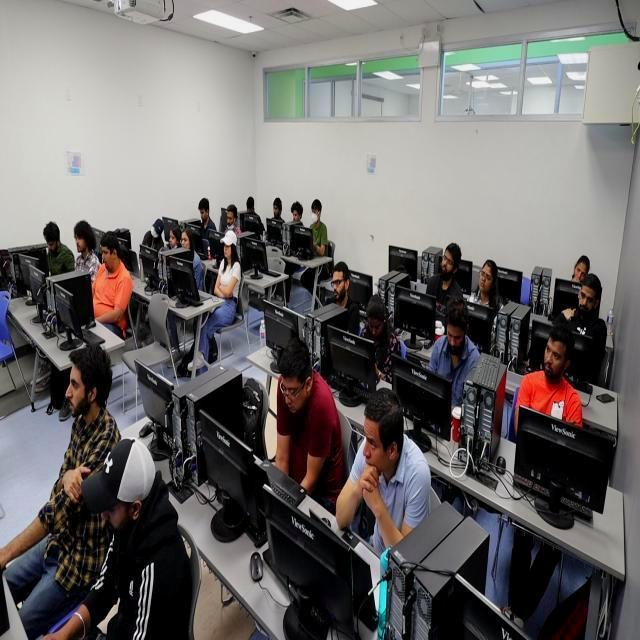Looking away: (276, 365, 310, 414), (445, 320, 466, 353), (368, 312, 384, 338), (101, 243, 113, 271), (45, 234, 59, 256), (74, 233, 87, 254), (226, 210, 236, 230), (168, 228, 178, 248), (198, 208, 208, 222)
Looking forward: (360, 412, 390, 473), (64, 361, 92, 418), (542, 334, 567, 384), (330, 272, 348, 301), (440, 247, 456, 279), (478, 261, 493, 294), (579, 284, 596, 313), (574, 255, 588, 282), (180, 232, 190, 250), (223, 240, 233, 258)
